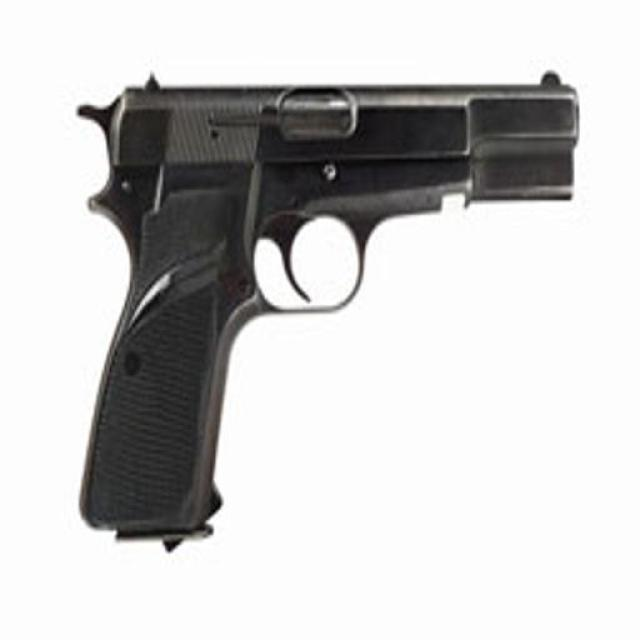pistol: (65, 59, 589, 541)
